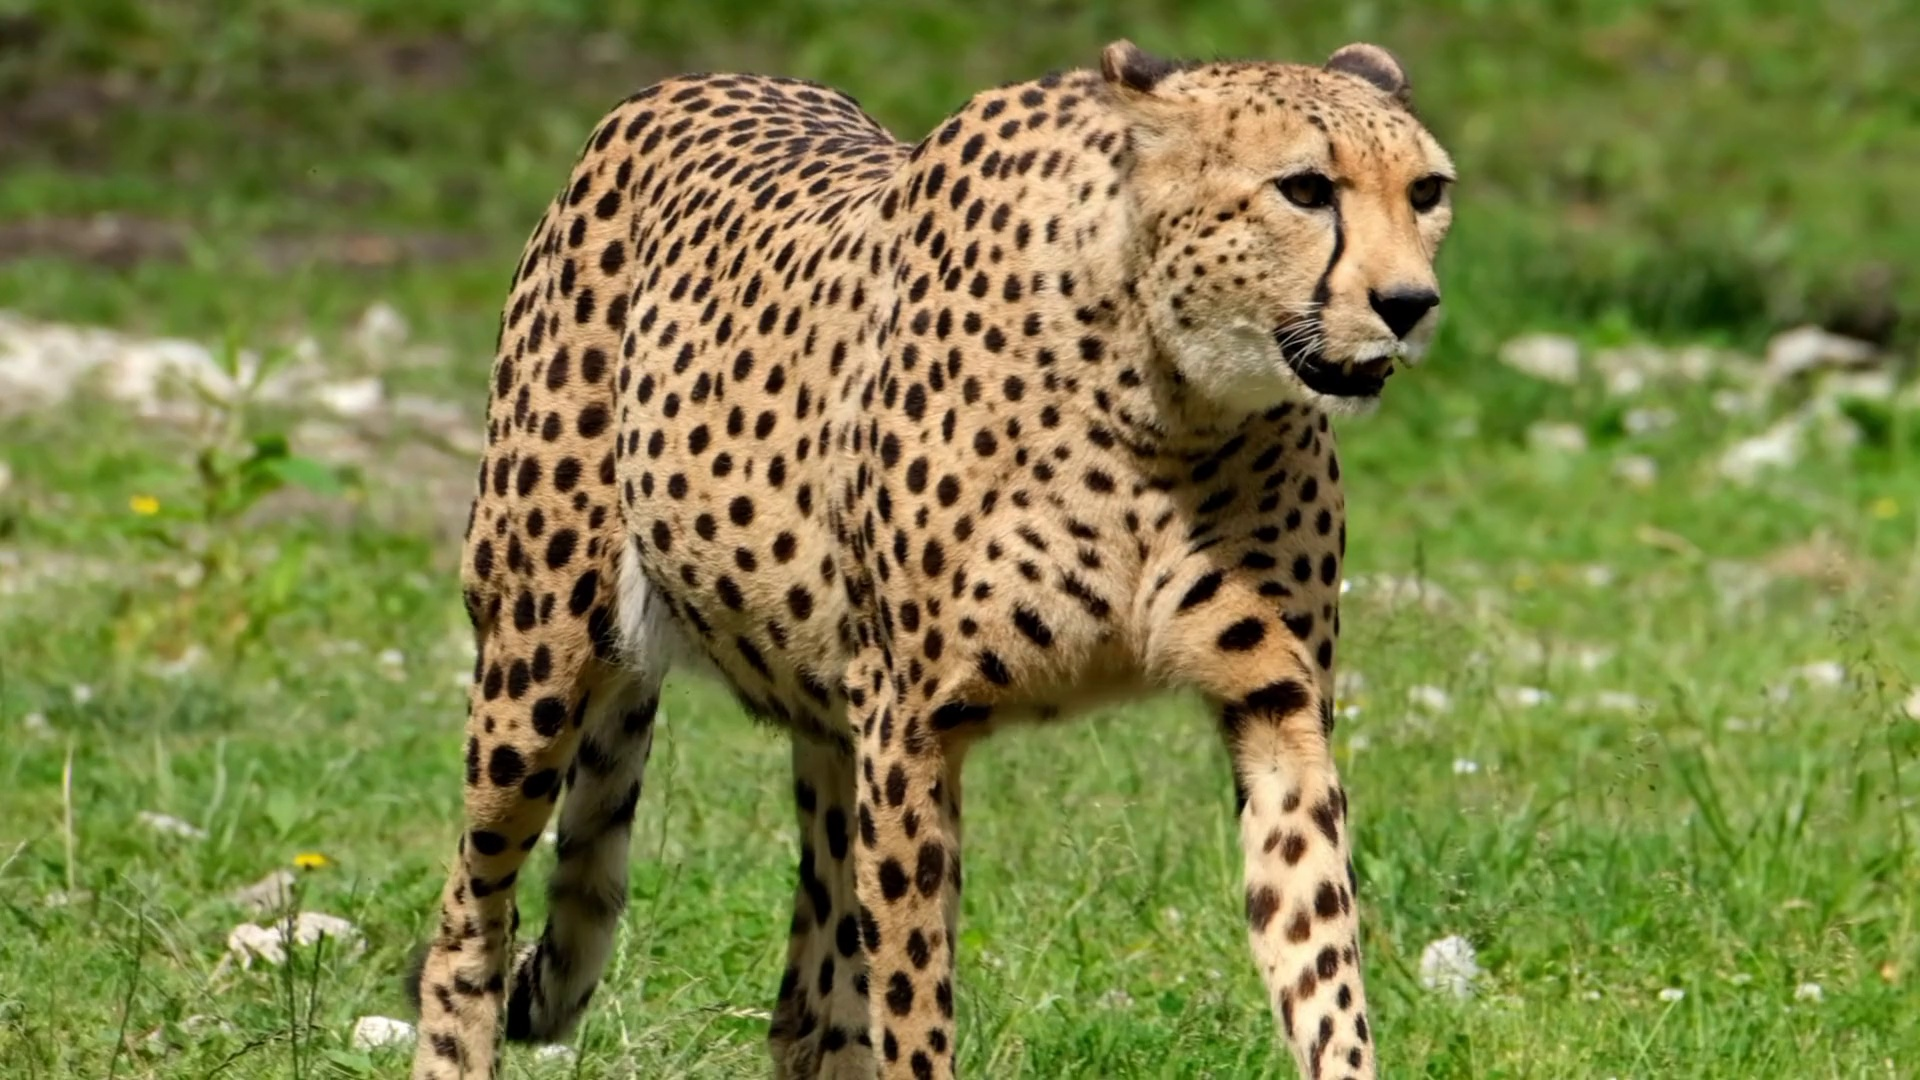Cheetah: (404, 32, 1472, 1080)
